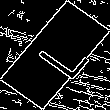L_NW: (23, 27, 87, 83)
